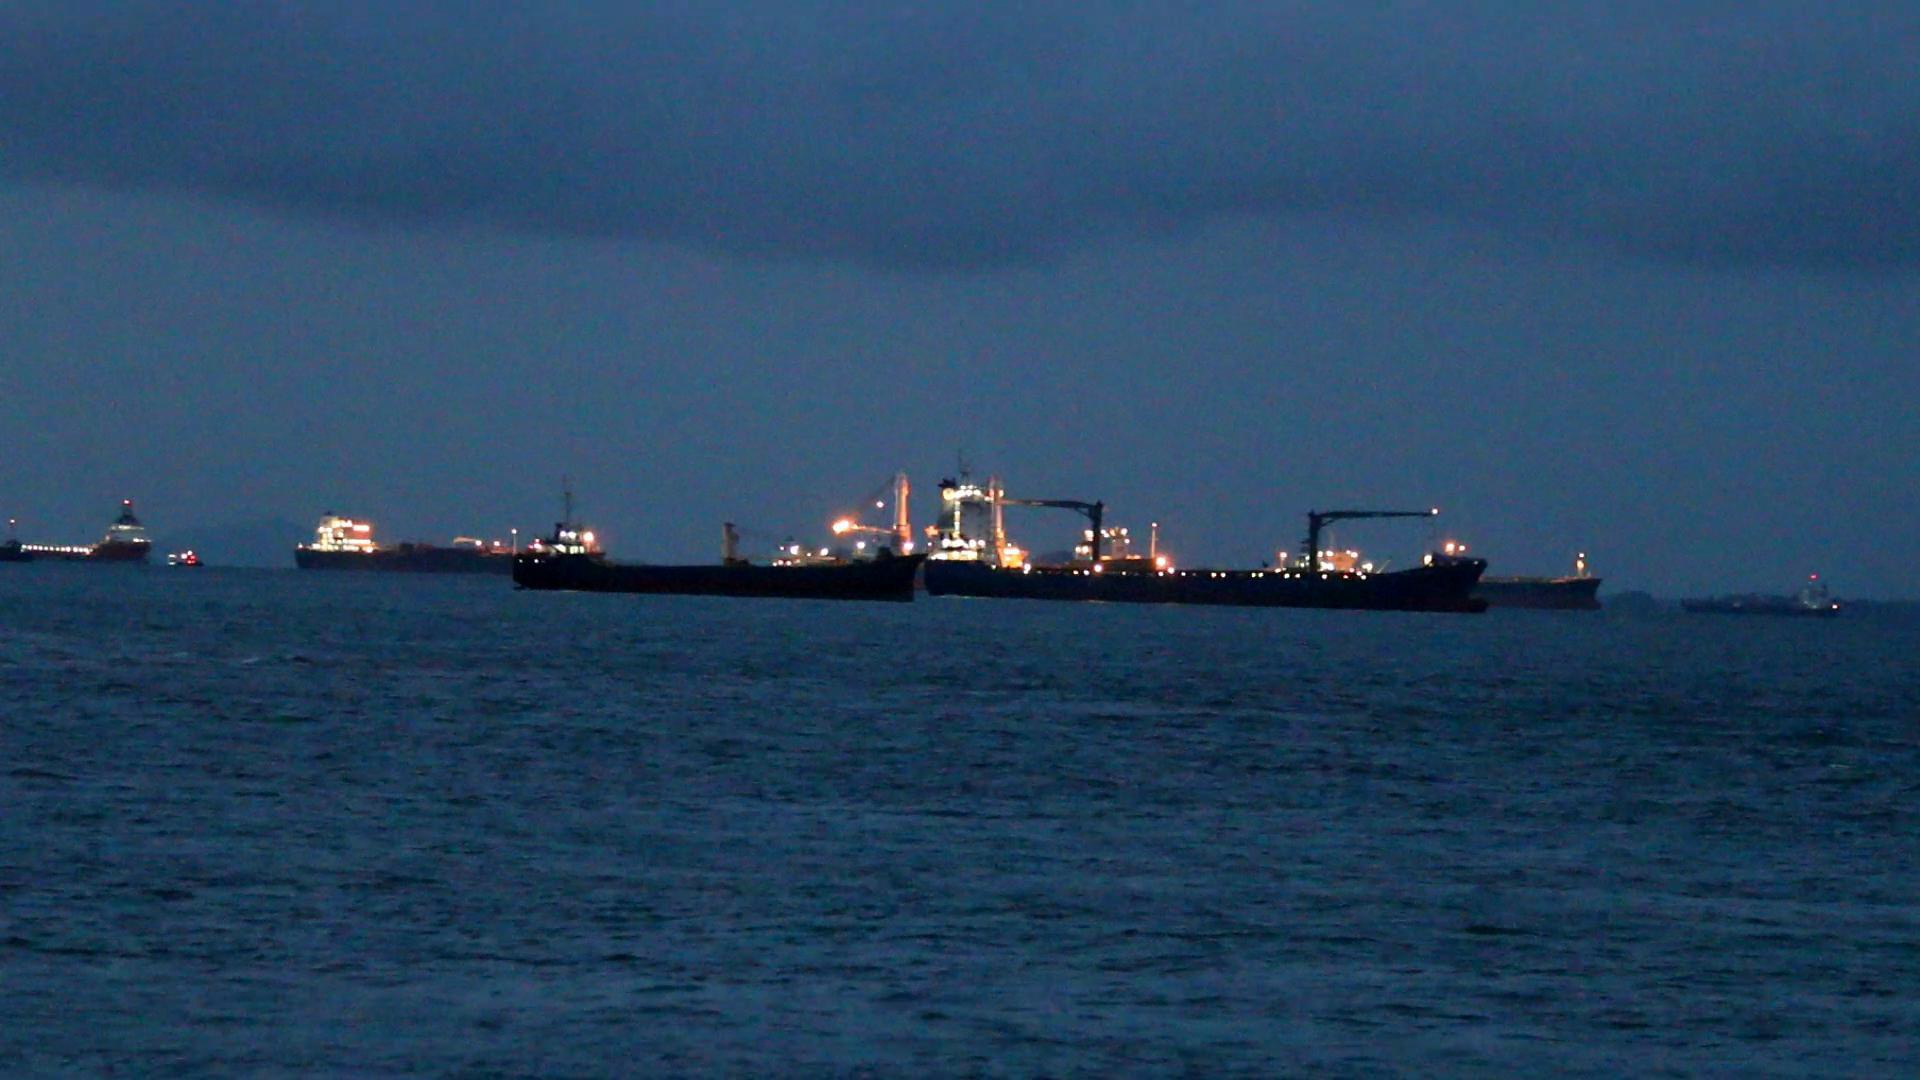Container Ship: (922, 472, 1490, 615), (510, 471, 922, 600), (293, 508, 512, 575), (4, 493, 154, 568), (1478, 549, 1605, 615), (1677, 571, 1846, 620), (165, 545, 208, 574)
